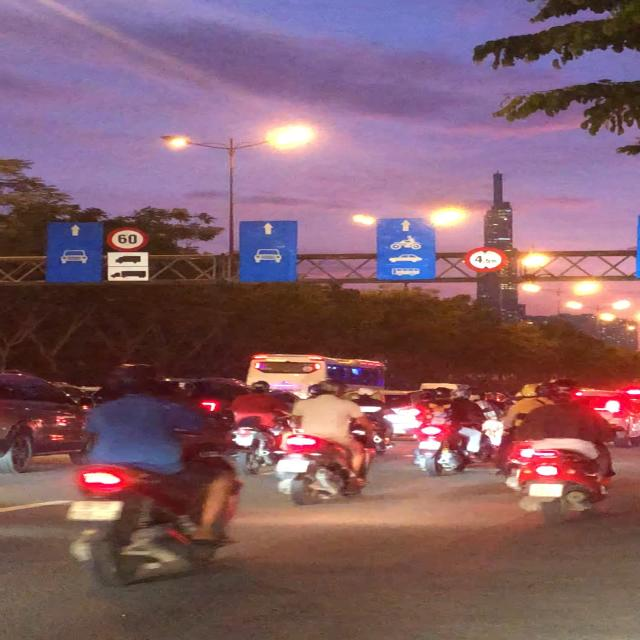Bien bao han che chieu cao: (464, 246, 513, 274)
Bien bao toc do toi da cho phep: (99, 224, 154, 252)
